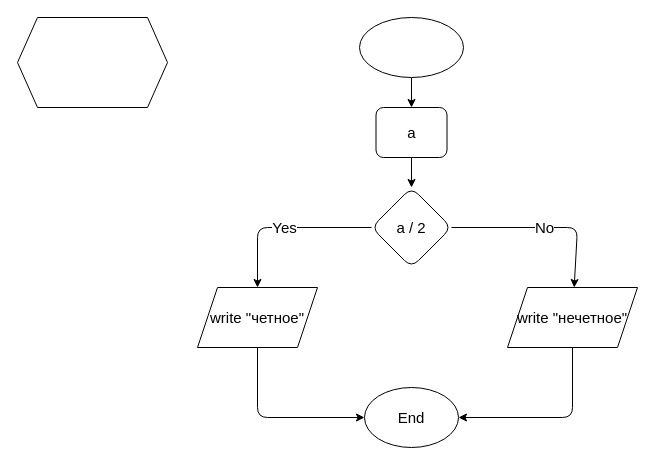
Some shapes in this 655 by 465 pixel diagram are drawn without their labels. The shapes that lost their labels are listed below. From the top down, each one's centre as x and y in pixels, then its label:
At (92,62): "Программа, которая на вход принимает число и выдает, является ли число четным".
At (411,47): "Start".
